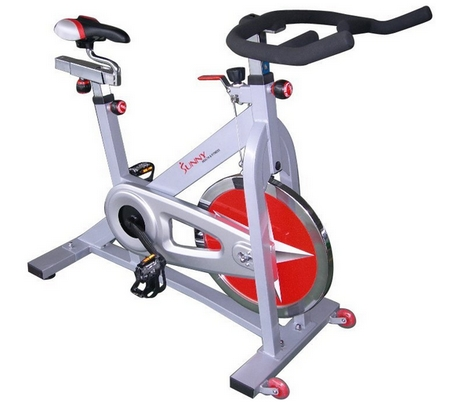gym_bike: (27, 12, 433, 397)
